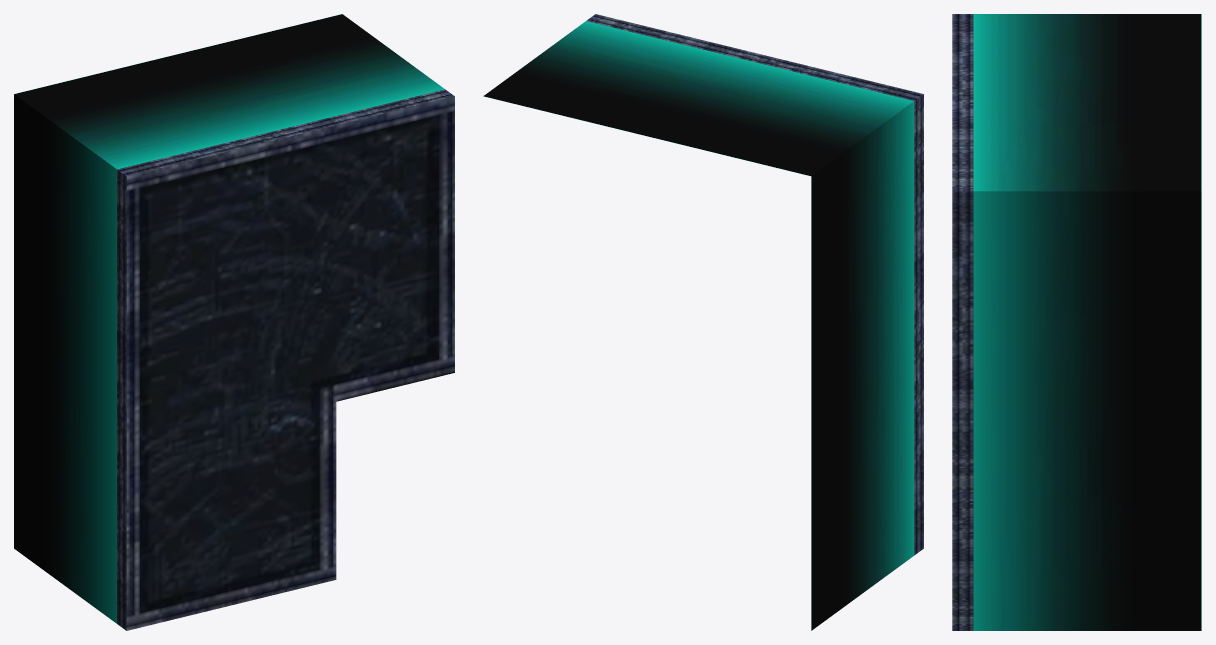
3 renders of one model, left to right at view 1: azimuth 30°, elevation 25°; view 2: azimuth 150°, elevation 25°; view 3: azimuth 270°, elevation 25°, orthographic. The views are drawn at different scales.
Visible parts, largest first — view 1: model_Object68; view 2: model_Object68; view 3: model_Object68.
Part boxes in pixels (x1=…): model_Object68: x1=14, y1=14, x2=454, y2=630; model_Object68: x1=483, y1=14, x2=923, y2=630; model_Object68: x1=952, y1=14, x2=1201, y2=630.
Bounding box in the file's own units: 1.94 × 2.56 × 1.15.
3 materials, 3 textured.
